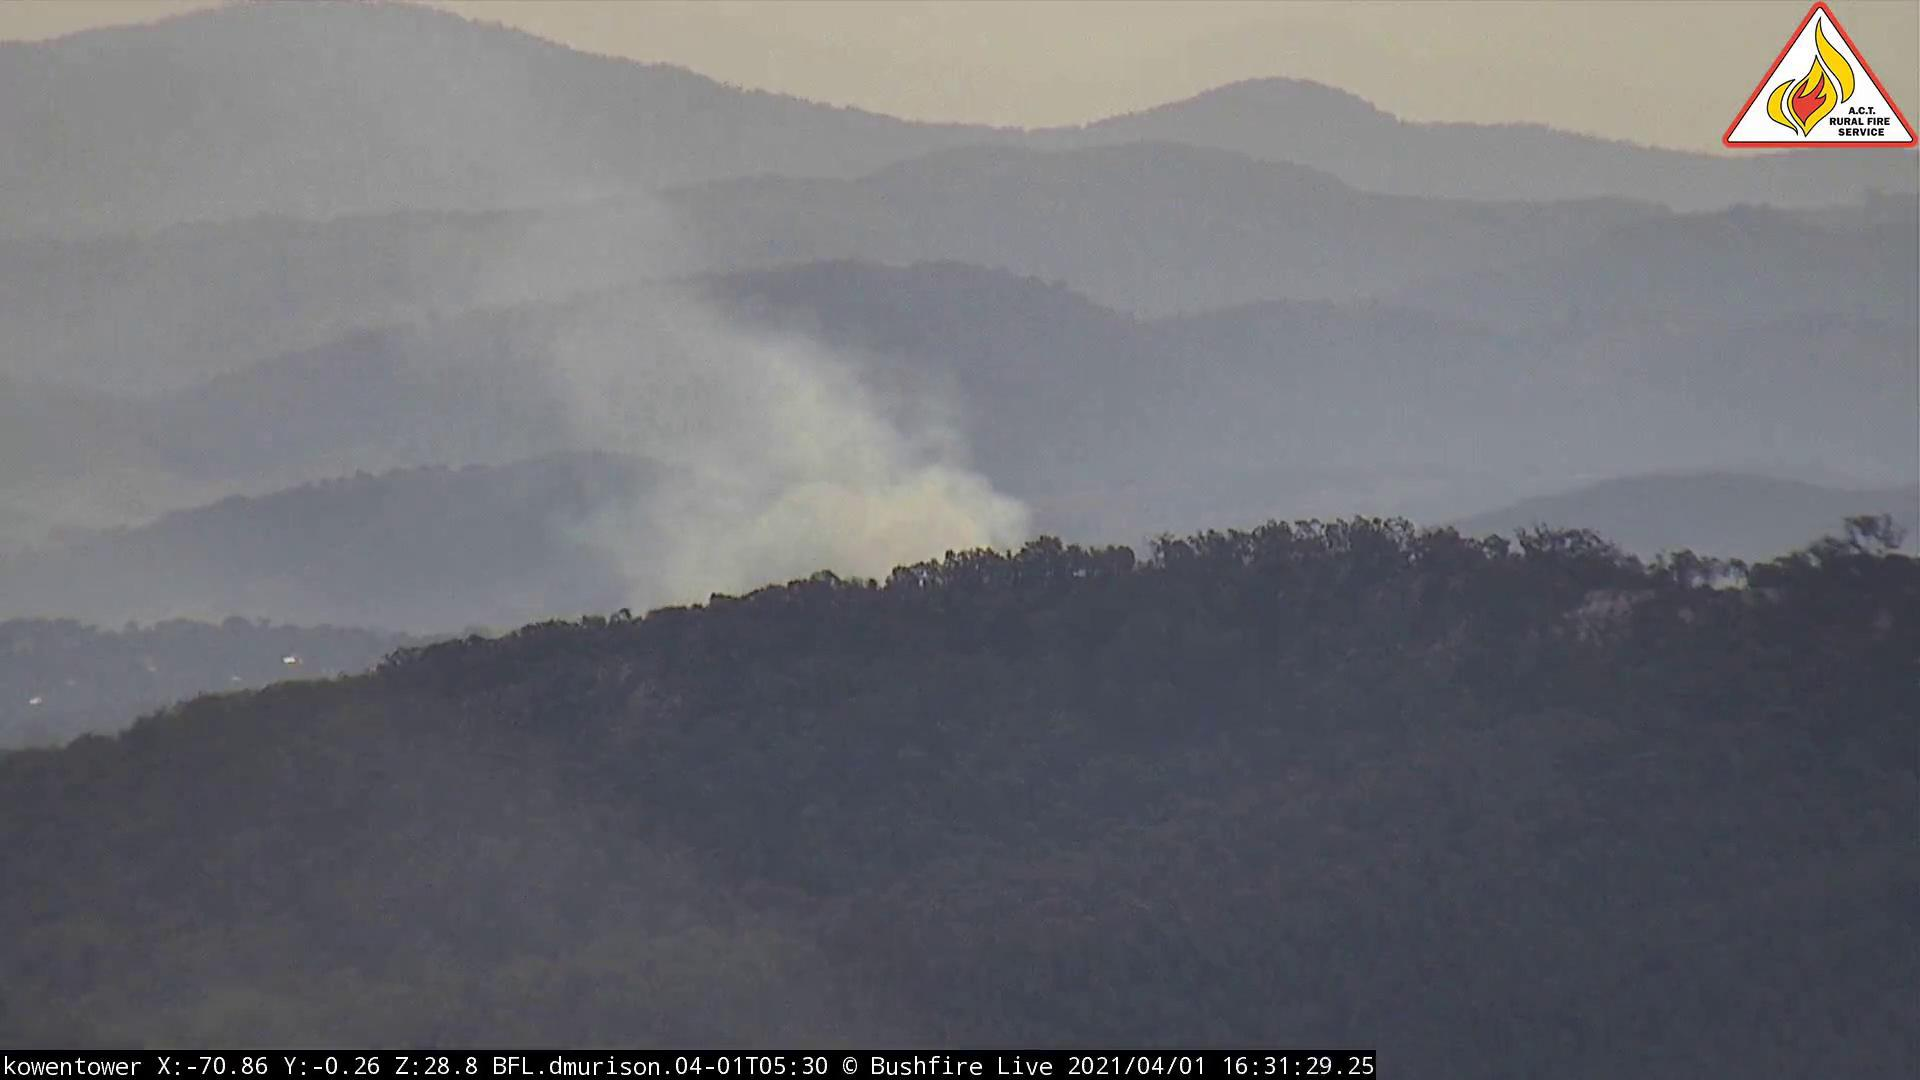Smoke: (450, 243, 1068, 620)
